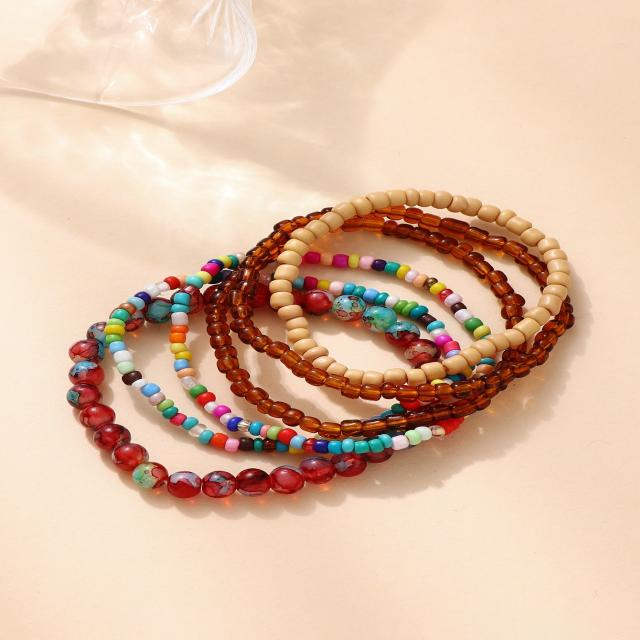bracelet: (39, 106, 616, 530)
